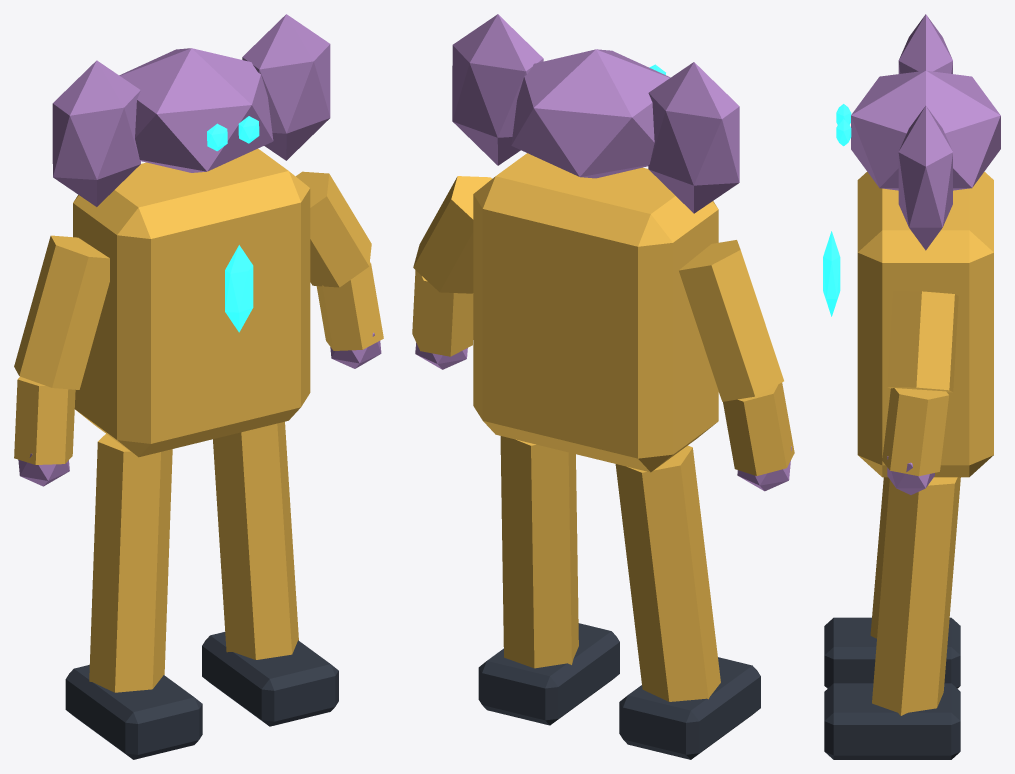
File: npcs_038_seed11.glb
The picture shows the model from 3 angles, left to right: view 1: azimuth 30°, elevation 25°; view 2: azimuth 150°, elevation 25°; view 3: azimuth 270°, elevation 25°; orthographic projection. The views are drawn at different scales.
Parts seen in each view (by area): view 1: npcs_038_seed11; view 2: npcs_038_seed11; view 3: npcs_038_seed11.
Boxes of the visible parts, <box> form: npcs_038_seed11: <box>14,14,383,759</box>; npcs_038_seed11: <box>412,14,794,759</box>; npcs_038_seed11: <box>823,14,1000,759</box>.
Size of the model in its own units: 1.12 by 1.96 by 0.4807.
